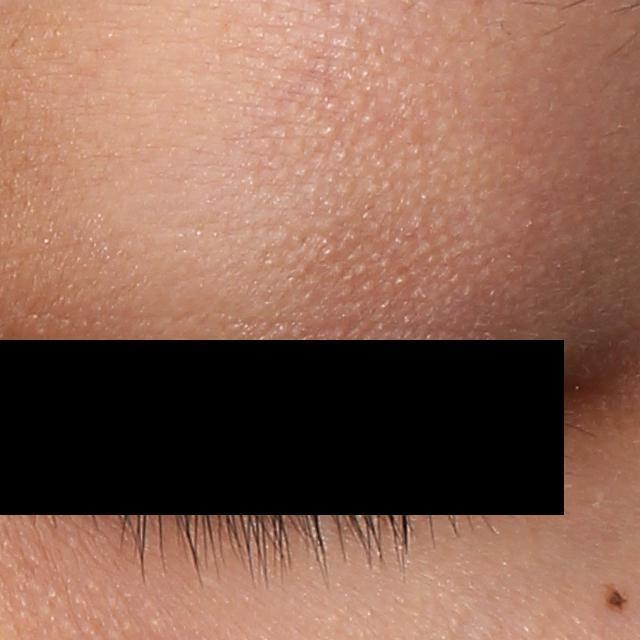nevus: (604, 579, 627, 613)
